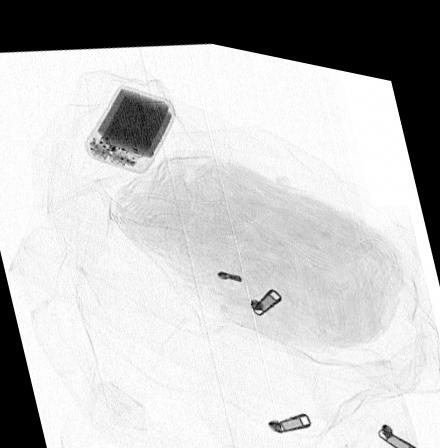Powerbank: (83, 78, 174, 168)
